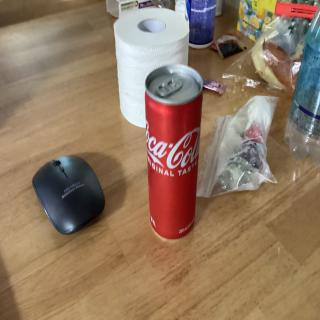cocacola: (138, 61, 203, 248)
